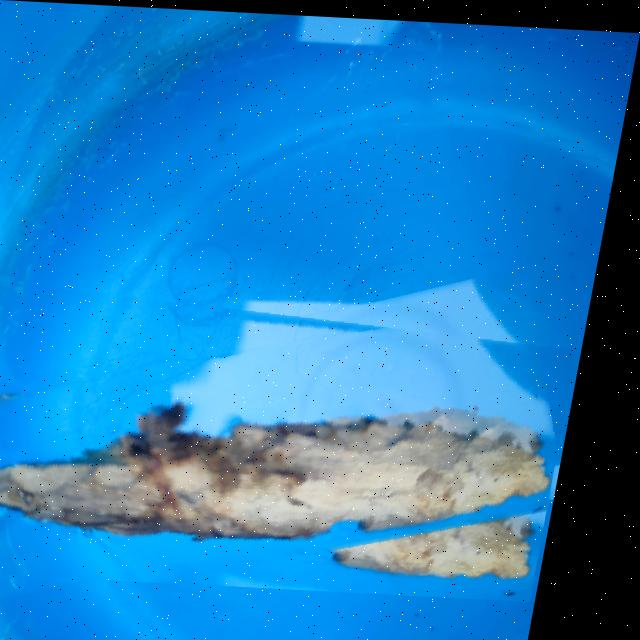wood: (0, 275, 595, 595)
